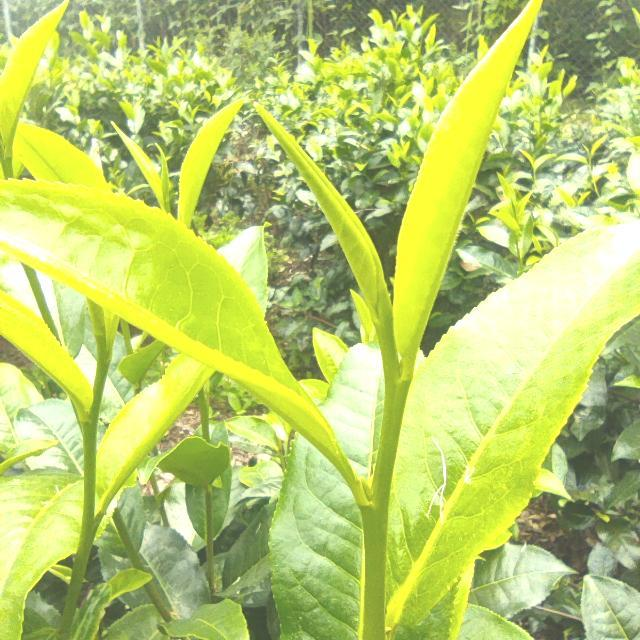Stem: (386, 380, 407, 406), (84, 415, 97, 436)
